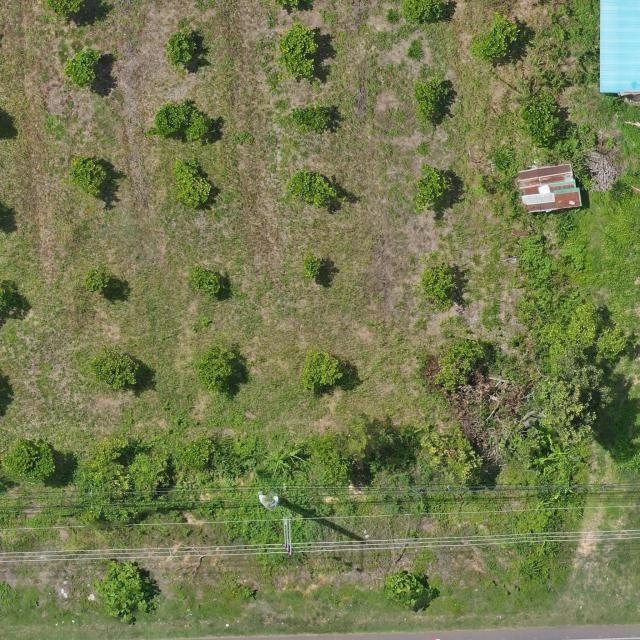tree: (532, 301, 630, 448), (419, 422, 490, 486), (94, 560, 152, 626), (436, 335, 492, 392), (146, 98, 211, 144), (468, 11, 523, 62), (280, 23, 322, 85), (3, 438, 59, 483), (518, 91, 563, 146), (172, 156, 214, 209), (90, 350, 141, 391), (420, 260, 460, 312), (299, 348, 346, 392), (382, 569, 430, 611), (287, 170, 339, 208), (414, 164, 456, 211), (67, 156, 112, 198), (196, 346, 236, 390), (414, 78, 451, 124), (64, 49, 104, 90), (290, 103, 336, 133), (399, 0, 448, 25), (191, 266, 223, 299), (167, 31, 196, 66), (302, 254, 324, 286), (86, 267, 112, 294), (48, 0, 82, 18), (274, 0, 312, 13)
